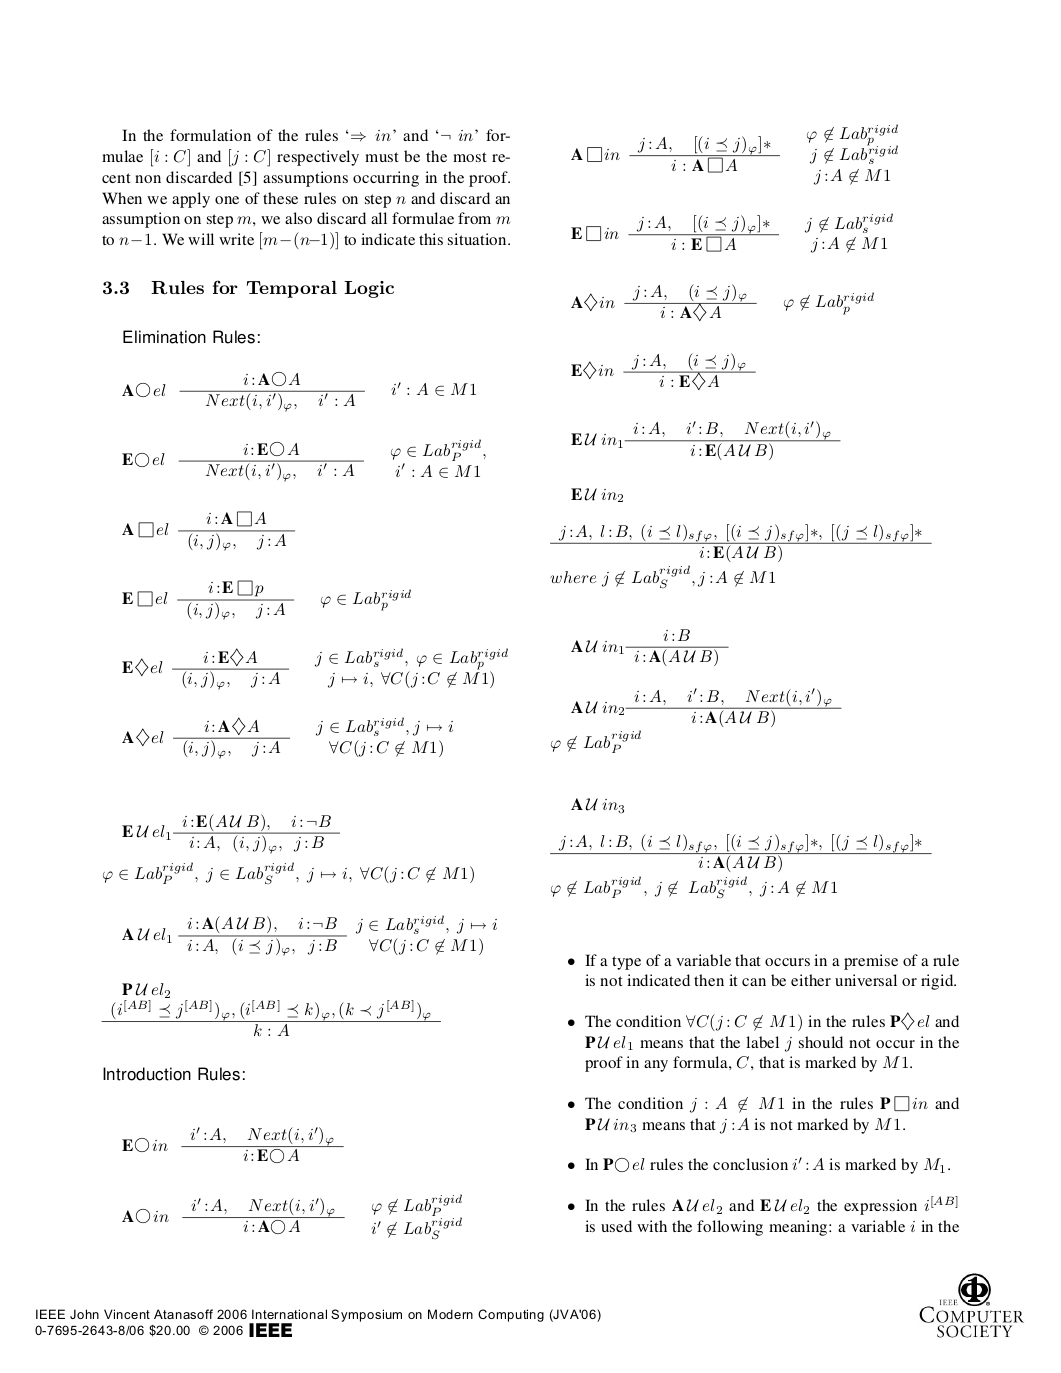figure: (919, 1273, 1023, 1337)
formula: (549, 522, 931, 590), (571, 123, 897, 185), (121, 647, 507, 690), (121, 1192, 461, 1240), (121, 438, 485, 483), (121, 914, 496, 956), (549, 832, 931, 873), (121, 370, 476, 412), (121, 715, 452, 759), (571, 212, 892, 253), (101, 999, 440, 1038), (571, 283, 873, 322), (121, 580, 410, 620), (571, 686, 841, 728), (571, 420, 840, 461), (121, 814, 339, 854), (103, 861, 473, 885), (121, 1126, 343, 1163), (571, 352, 755, 391), (549, 875, 837, 899), (121, 510, 295, 551), (571, 629, 728, 668), (549, 729, 640, 753), (121, 982, 169, 999)
